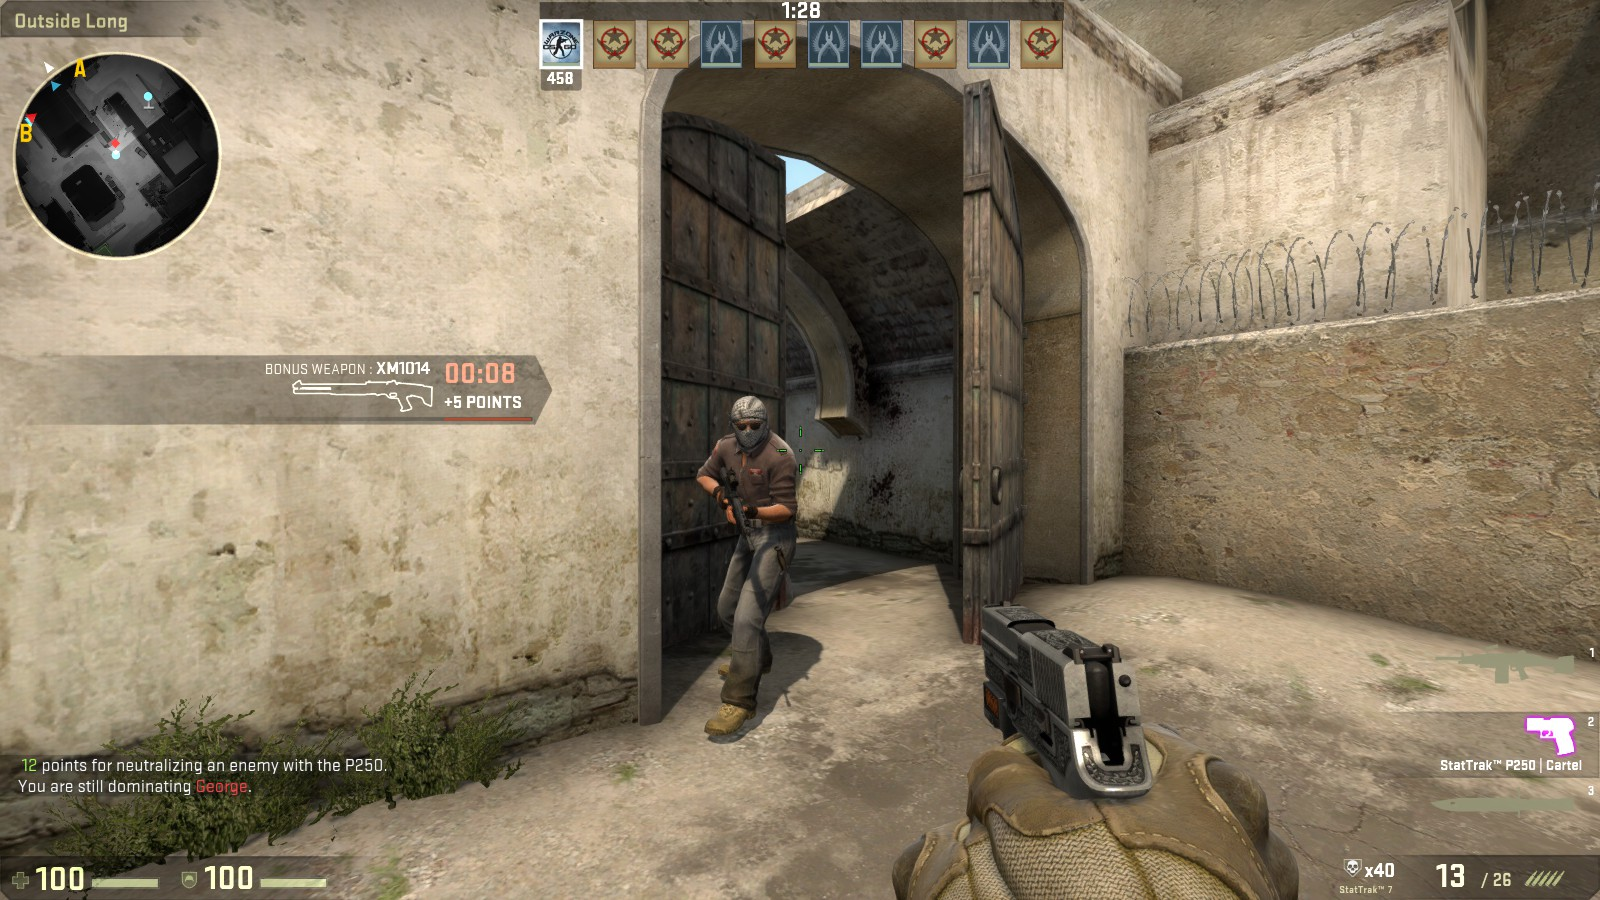t: (705, 392, 800, 735)
th: (727, 395, 770, 452)
